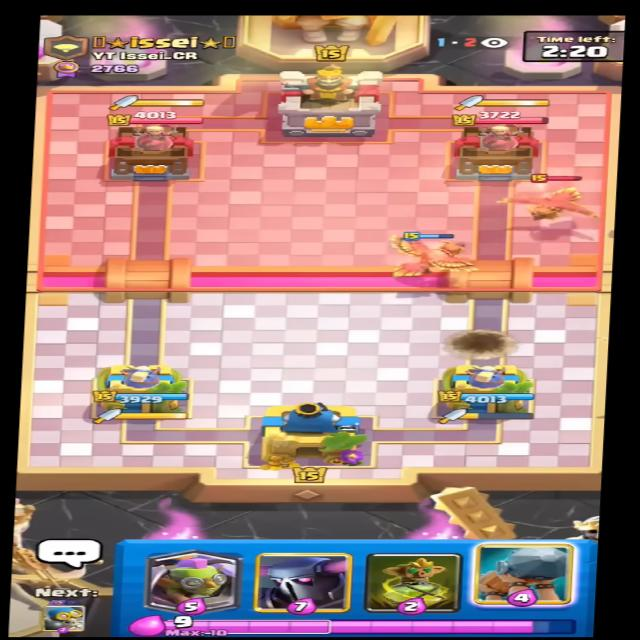Pheonix: (489, 173, 604, 223)
